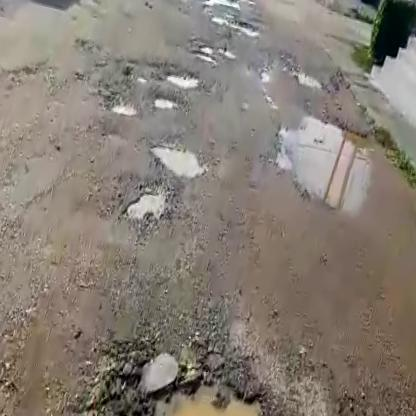pothole: (75, 351, 286, 416), (118, 174, 176, 231), (146, 136, 210, 183), (208, 11, 262, 39), (187, 40, 235, 71), (159, 62, 203, 90), (288, 65, 327, 95), (107, 95, 141, 121), (151, 93, 180, 114)
